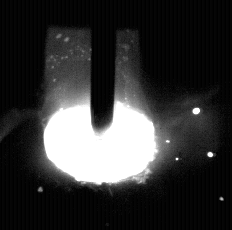arame: (91, 0, 115, 136)
poca: (43, 0, 155, 230)
